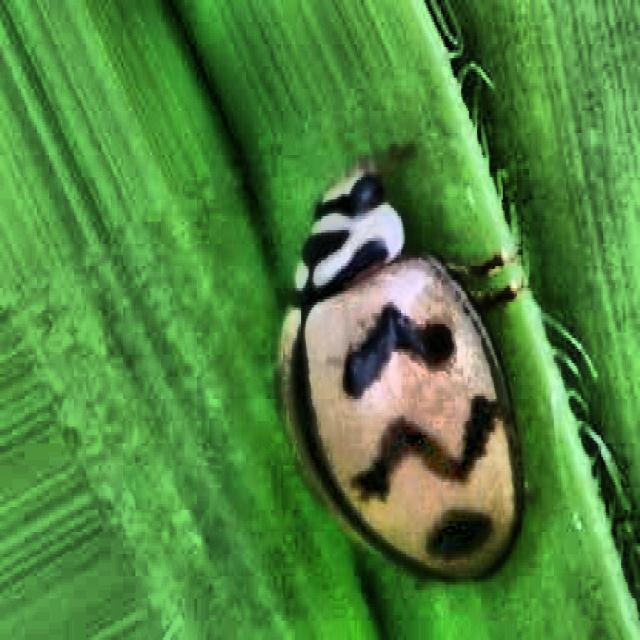Asian-Lady-beetle: (258, 110, 570, 634)
